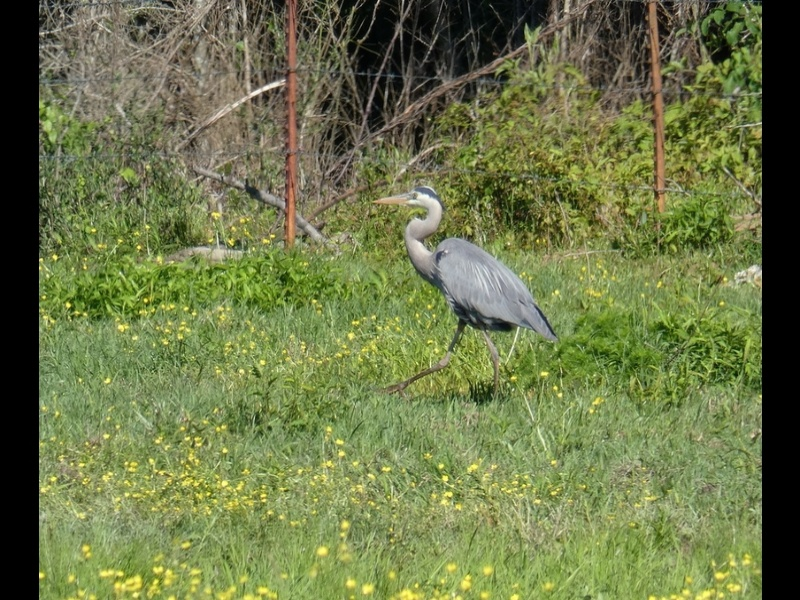heron: (366, 178, 559, 416)
